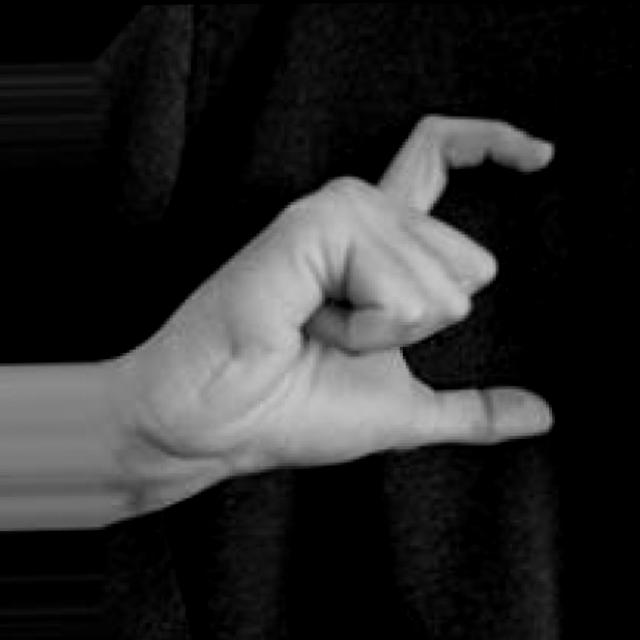C: (125, 104, 561, 527)
